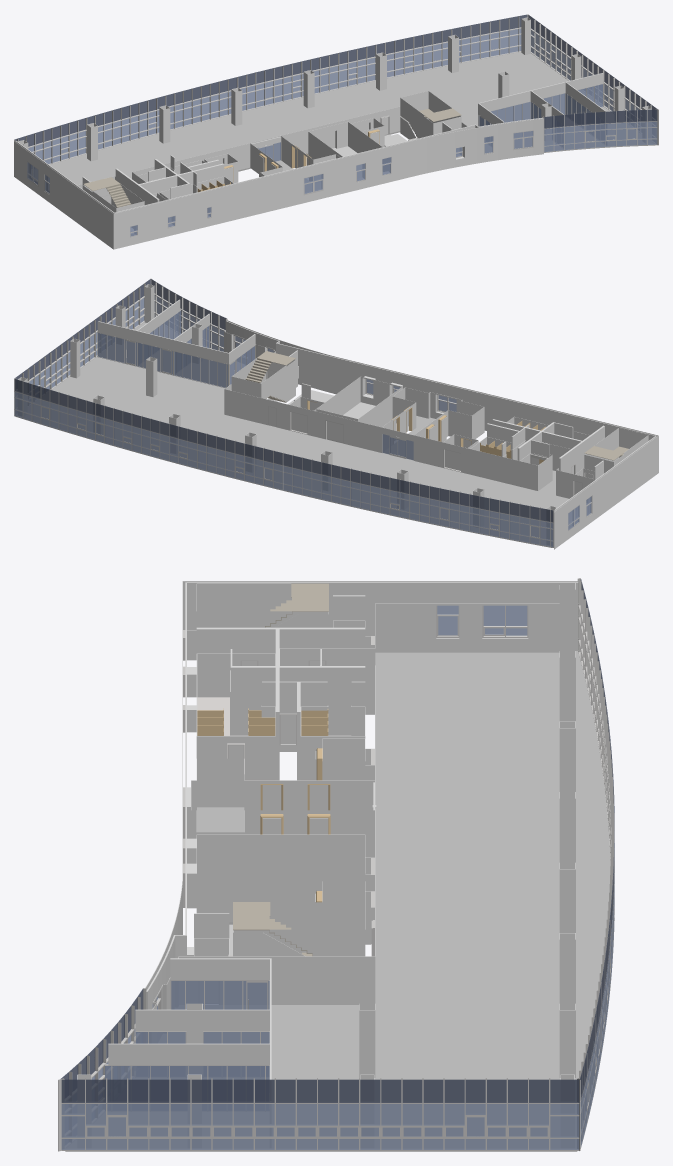
3 renders of one model, top to bottom at view 1: azimuth 30°, elevation 25°; view 2: azimuth 150°, elevation 25°; view 3: azimuth 270°, elevation 25°, orthographic. The views are drawn at different scales.
Parts seen in each view (by area): view 1: A8_13F_Window, A8_13F_Floor, A8_13F_outWall, A8_13F_Wall, A8_13F_Pillar, A8_13F_Glass, A8_13F_Stairs, A8_13F_ELEV, A8_13F_Frame, A8_13F_Door, A8_13F_AutomaticDoor; view 2: A8_13F_Wall, A8_13F_Window, A8_13F_Floor, A8_13F_outWall, A8_13F_Pillar, A8_13F_Glass, A8_13F_Door, A8_13F_Frame, A8_13F_Stairs, A8_13F_AutomaticDoor, A8_13F_ELEV, A8_13F_GlassDoor; view 3: A8_13F_Floor, A8_13F_Wall, A8_13F_Window, A8_13F_Pillar, A8_13F_Glass, A8_13F_ELEV, A8_13F_Stairs, A8_13F_Toilet, A8_13F_Door, A8_13F_outWall, A8_13F_Frame.
Boxes of the visible parts, x1,y1,x2,y2 form: A8_13F_Window: (14, 14, 658, 237); A8_13F_Floor: (31, 52, 654, 191); A8_13F_outWall: (14, 118, 543, 249); A8_13F_Wall: (15, 73, 606, 235); A8_13F_Pillar: (17, 17, 651, 161); A8_13F_Glass: (478, 84, 602, 125); A8_13F_Stairs: (83, 108, 461, 207); A8_13F_ELEV: (224, 129, 379, 182); A8_13F_Frame: (478, 83, 603, 126); A8_13F_Door: (102, 115, 458, 203); A8_13F_AutomaticDoor: (251, 136, 281, 163); A8_13F_Wall: (97, 299, 656, 527); A8_13F_Window: (14, 278, 591, 547); A8_13F_Floor: (22, 322, 587, 547); A8_13F_outWall: (227, 320, 658, 549); A8_13F_Pillar: (18, 284, 555, 544); A8_13F_Glass: (98, 311, 254, 387); A8_13F_Door: (267, 369, 593, 495); A8_13F_Frame: (97, 310, 255, 388); A8_13F_Stairs: (245, 351, 628, 460); A8_13F_AutomaticDoor: (381, 428, 413, 460); A8_13F_ELEV: (307, 400, 471, 448); A8_13F_GlassDoor: (126, 340, 563, 454); A8_13F_Floor: (65, 651, 610, 1151); A8_13F_Wall: (108, 582, 578, 1100); A8_13F_Window: (58, 578, 614, 1151); A8_13F_Pillar: (77, 583, 575, 1147); A8_13F_Glass: (105, 981, 269, 1079); A8_13F_ELEV: (260, 748, 330, 902); A8_13F_Stairs: (233, 583, 328, 956); A8_13F_Toilet: (197, 708, 328, 735); A8_13F_Door: (199, 636, 374, 1004); A8_13F_outWall: (145, 581, 577, 990); A8_13F_Frame: (105, 980, 270, 1147).
Bounding box in the file's own units: 61.96 × 4.3 × 29.02.
